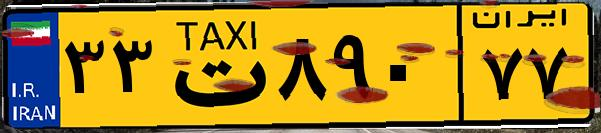0: (385, 28, 445, 110)
3: (57, 26, 110, 100), (110, 28, 158, 98)
7: (475, 38, 525, 113), (525, 38, 570, 115)
8: (270, 28, 330, 110)
9: (330, 28, 385, 110)
ت: (158, 12, 270, 120)
